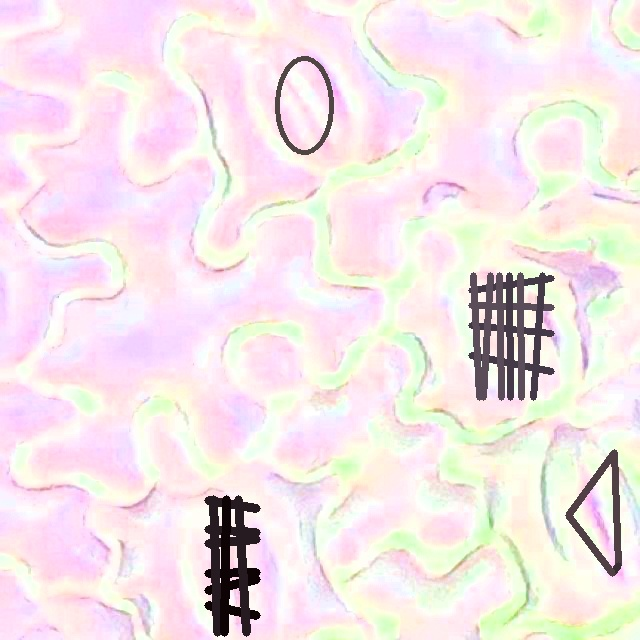open: (468, 272, 554, 400), (204, 495, 260, 636), (565, 449, 621, 576), (274, 56, 333, 154)
